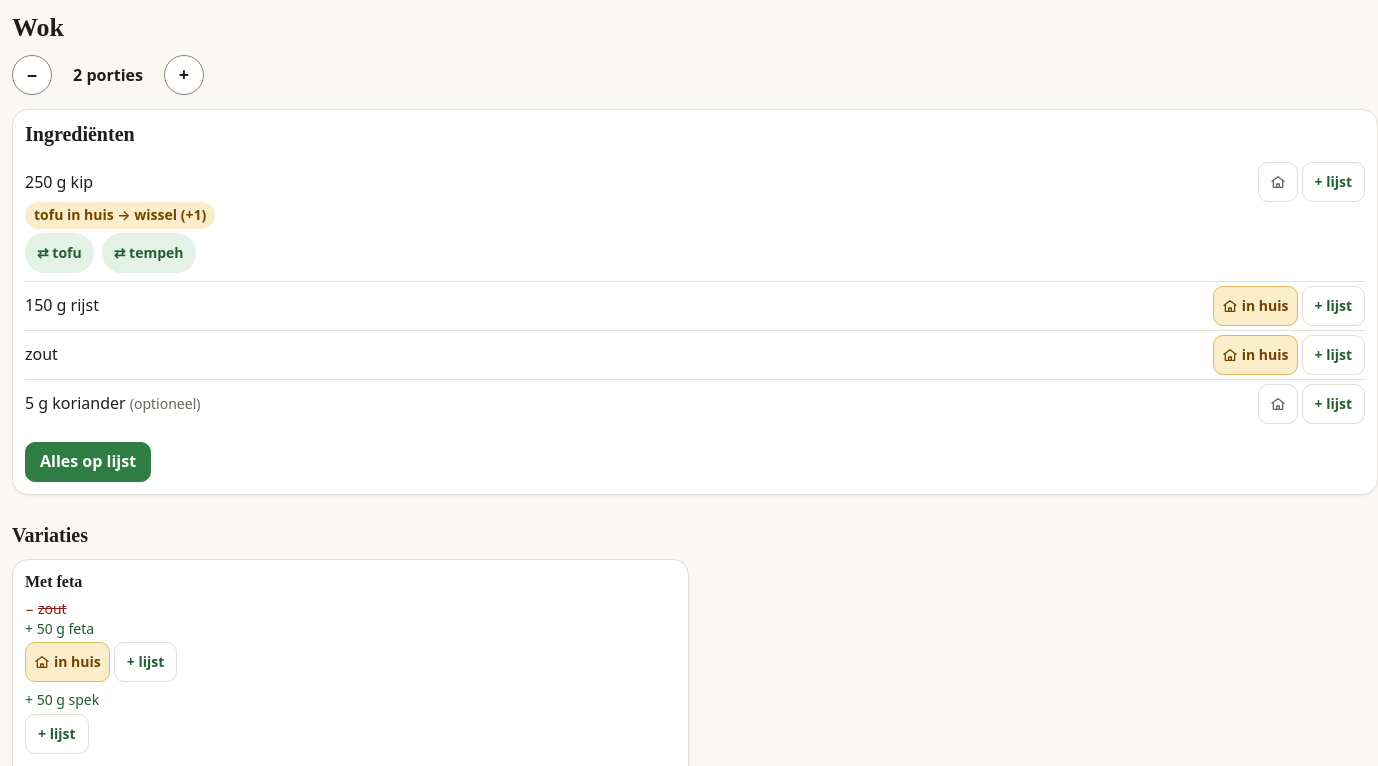
In huis op de receptpagina › "Alles op lijst" slaat in-huis over en meldt hoeveel; optioneel blijft eraf
This screenshot has width=1378, height=766.
Click the button with class "add-all" at (88, 462), box [25,442,151,482]
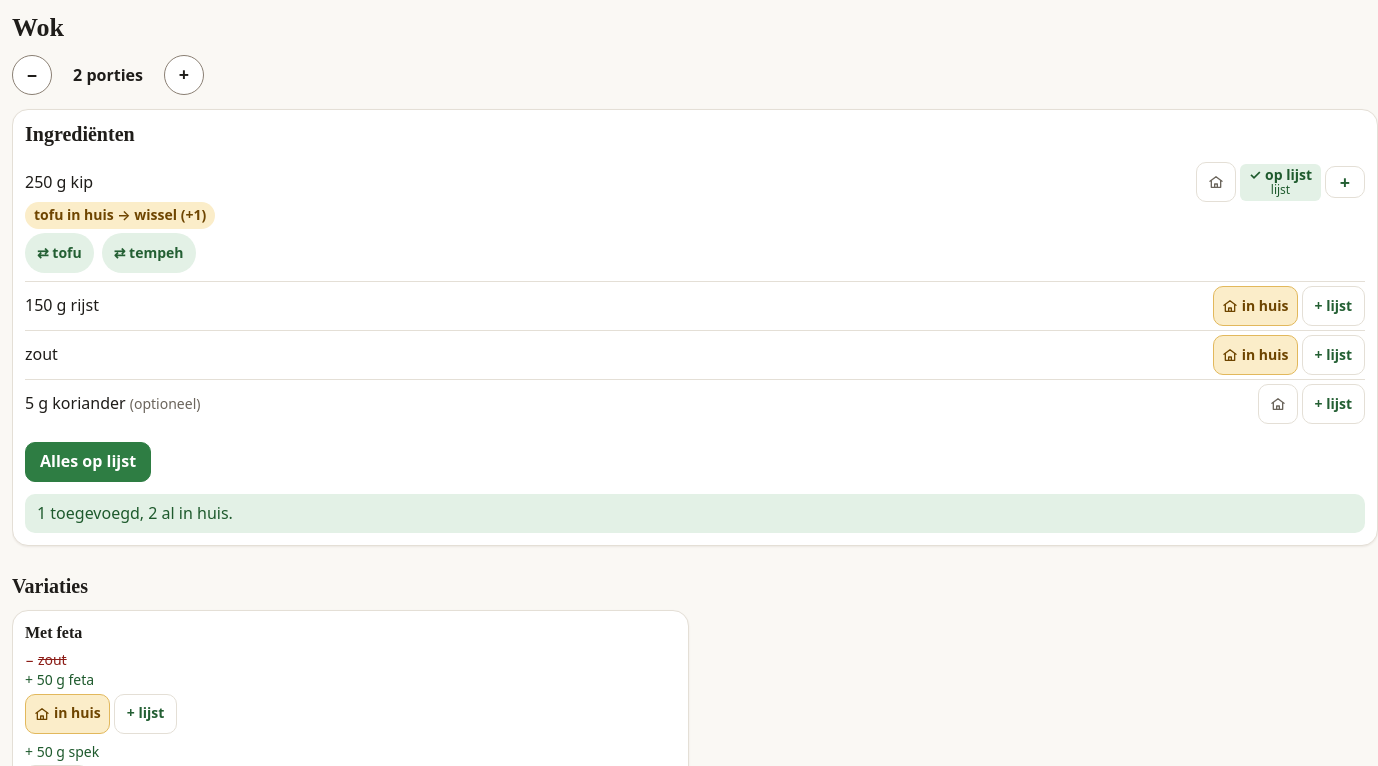
Expected: the message with class "added" reads "1 toegevoegd, 2 al in huis.", [37,502,233,524]
